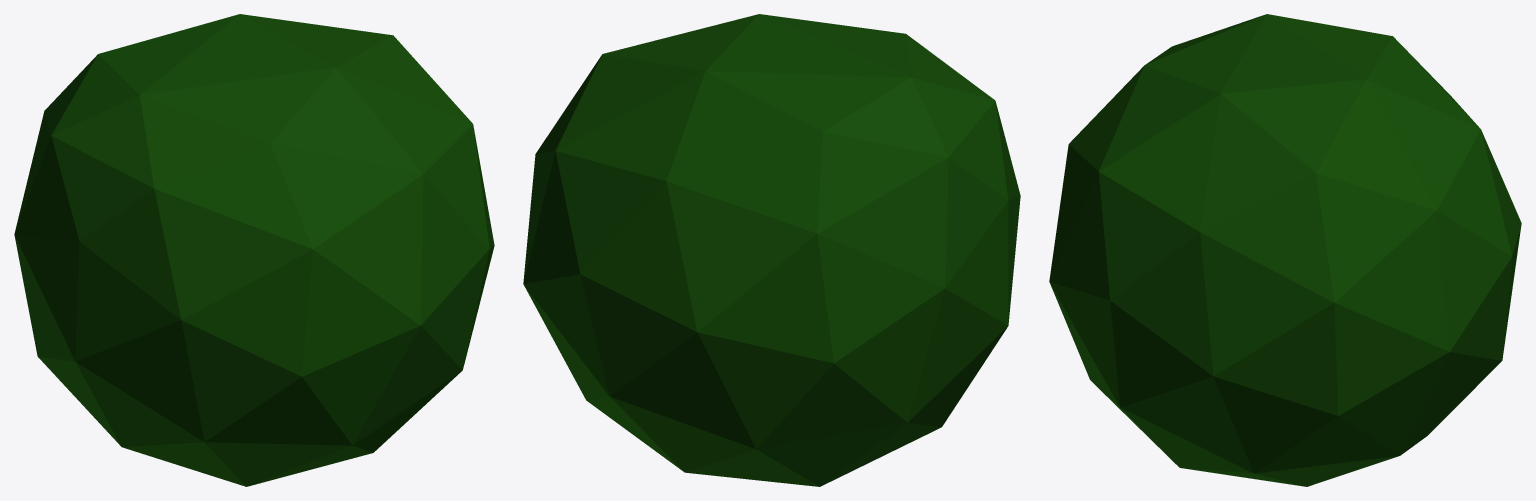
The picture shows the model from 3 angles, left to right: view 1: azimuth 30°, elevation 25°; view 2: azimuth 150°, elevation 25°; view 3: azimuth 270°, elevation 25°; orthographic projection. The views are drawn at different scales.
Visible parts, largest first — view 1: Icosphere.006; view 2: Icosphere.006; view 3: Icosphere.006.
Boxes of the visible parts, left/top/right/bottom form: Icosphere.006: left=14, top=14, right=494, bottom=486; Icosphere.006: left=523, top=14, right=1020, bottom=486; Icosphere.006: left=1049, top=14, right=1521, bottom=486.
Bounding box in the file's own units: 2.27 × 2.13 × 2.29.
